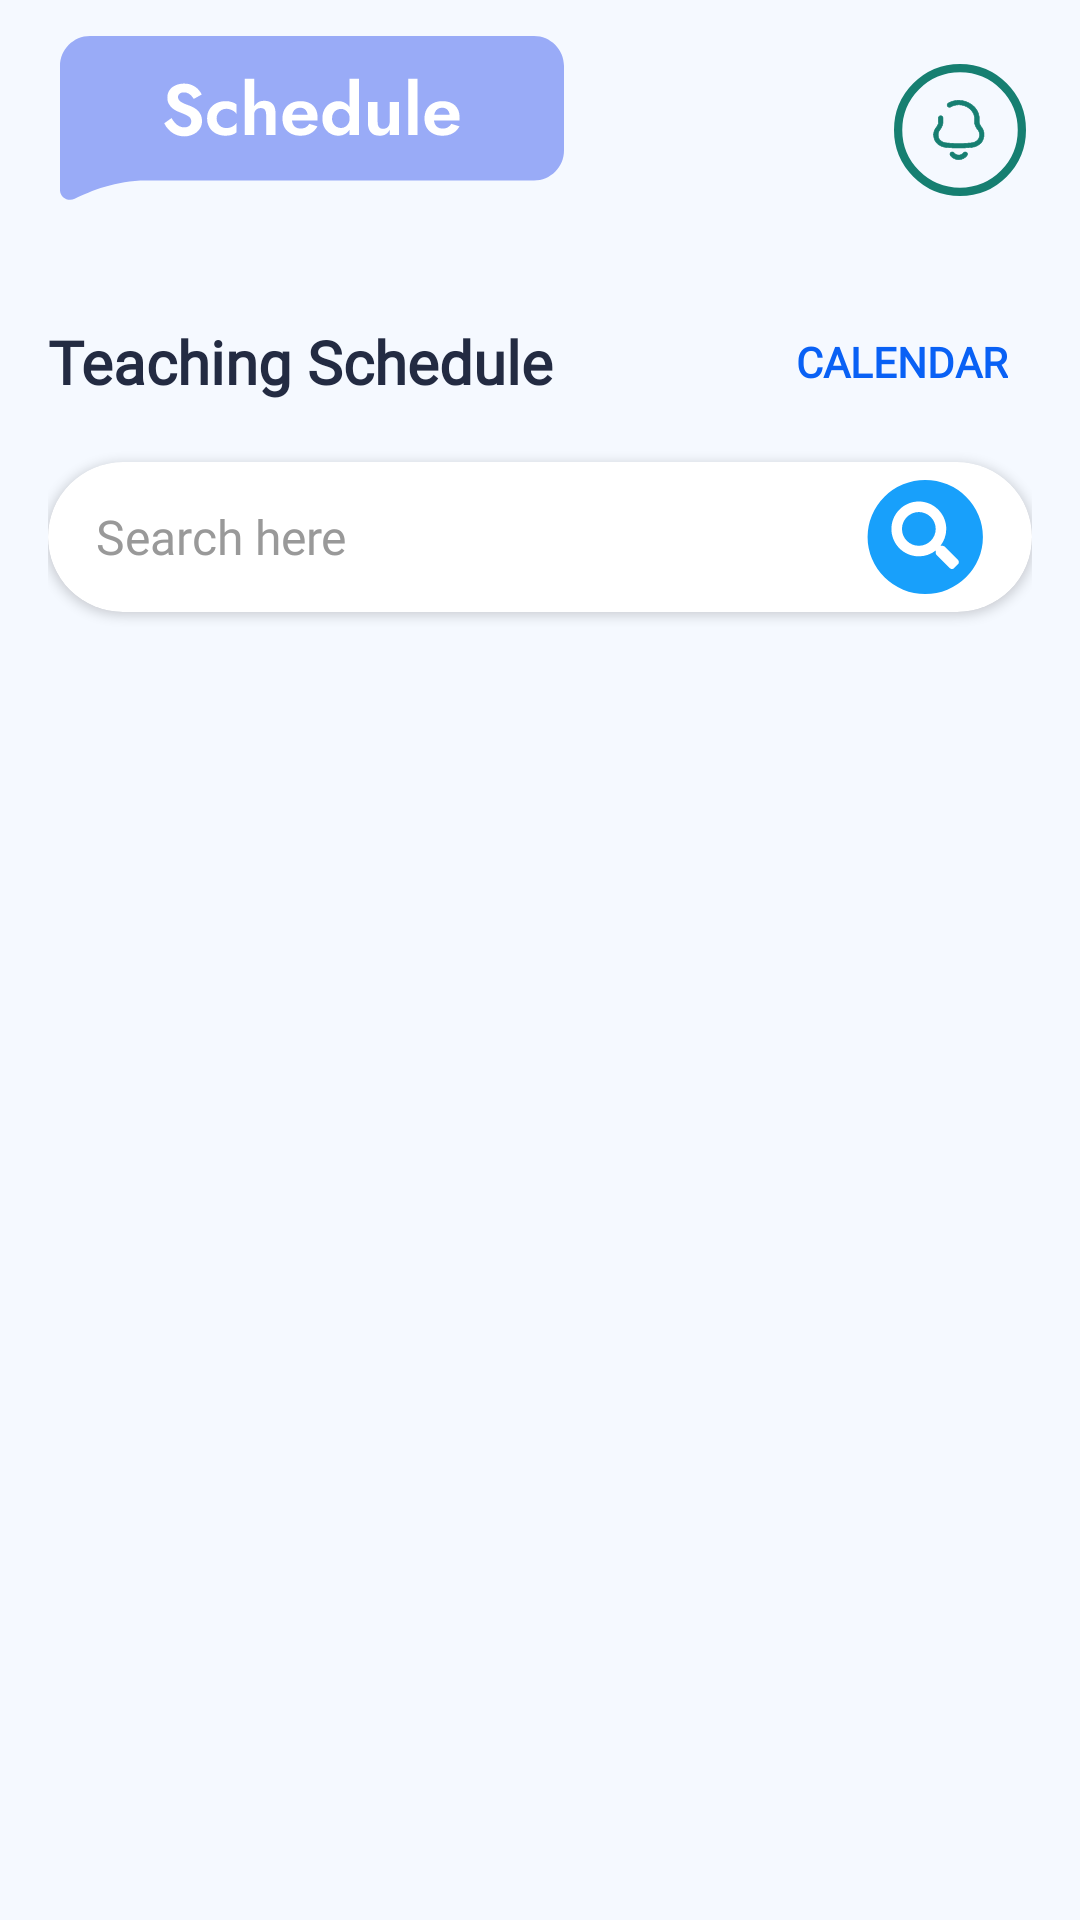

Point at icon controls on the screen. Image size 1080px×1920px, points as point (x, y).
notification: point (960, 130)
